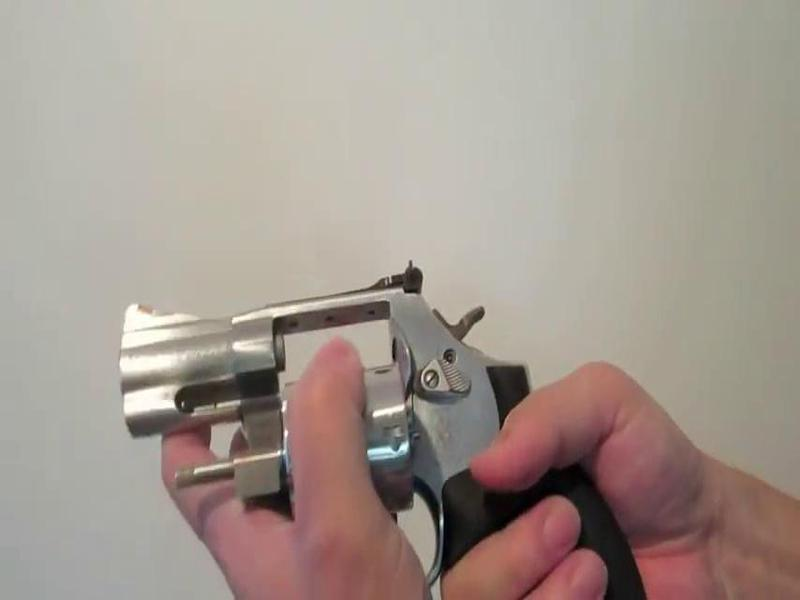Revolver: (99, 242, 640, 600)
